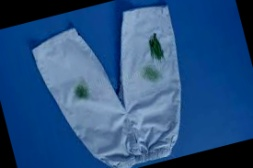earth: (147, 35, 166, 61), (142, 66, 158, 83), (75, 84, 89, 100)
